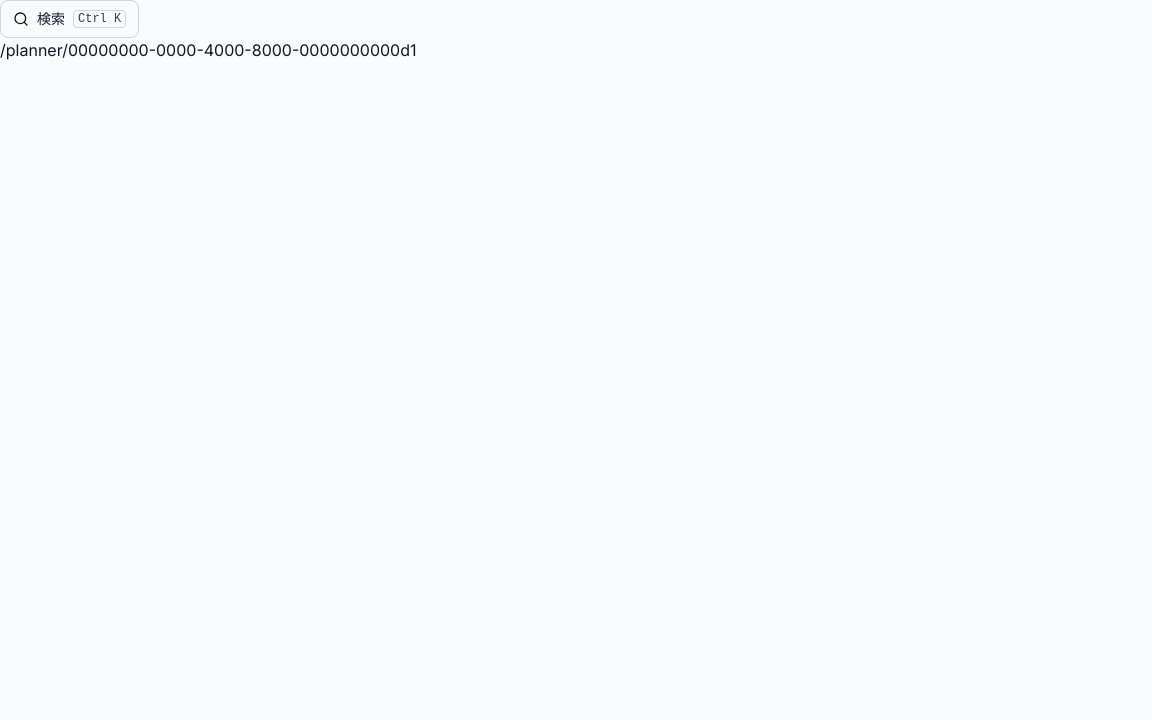
CommandPalette (Gate C3) › Ctrl+K で開き、止まってから1回だけこの旅行を探し、Enter で開く
Press k
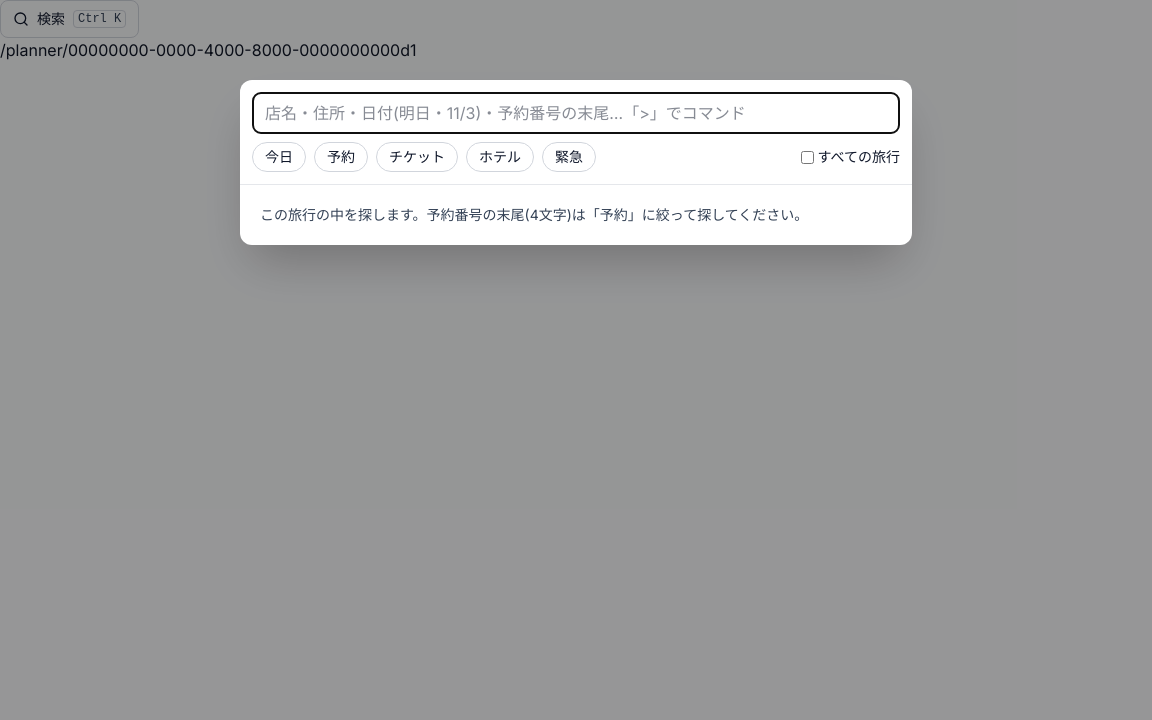
Type "清" into the dropdown named "検索語" at (576, 113), box [252, 92, 900, 134]
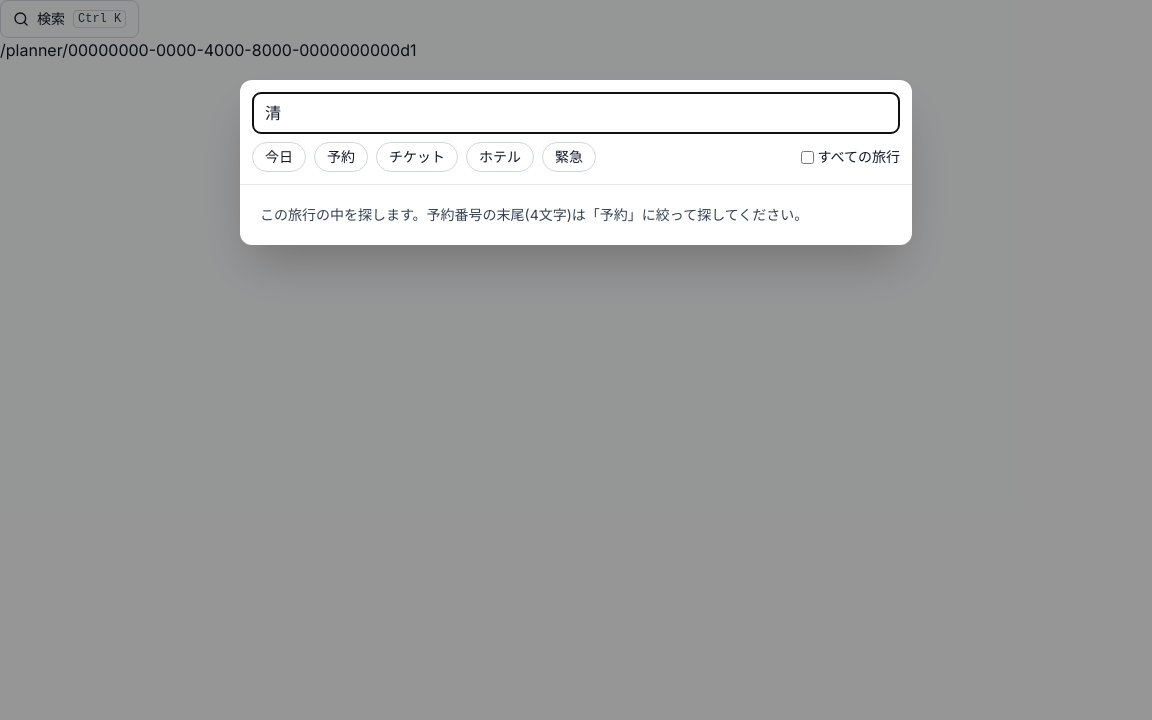
Replace the text in the dropdown named "検索語" with "清水" at (576, 113), box [252, 92, 900, 134]
Wait 300 ms
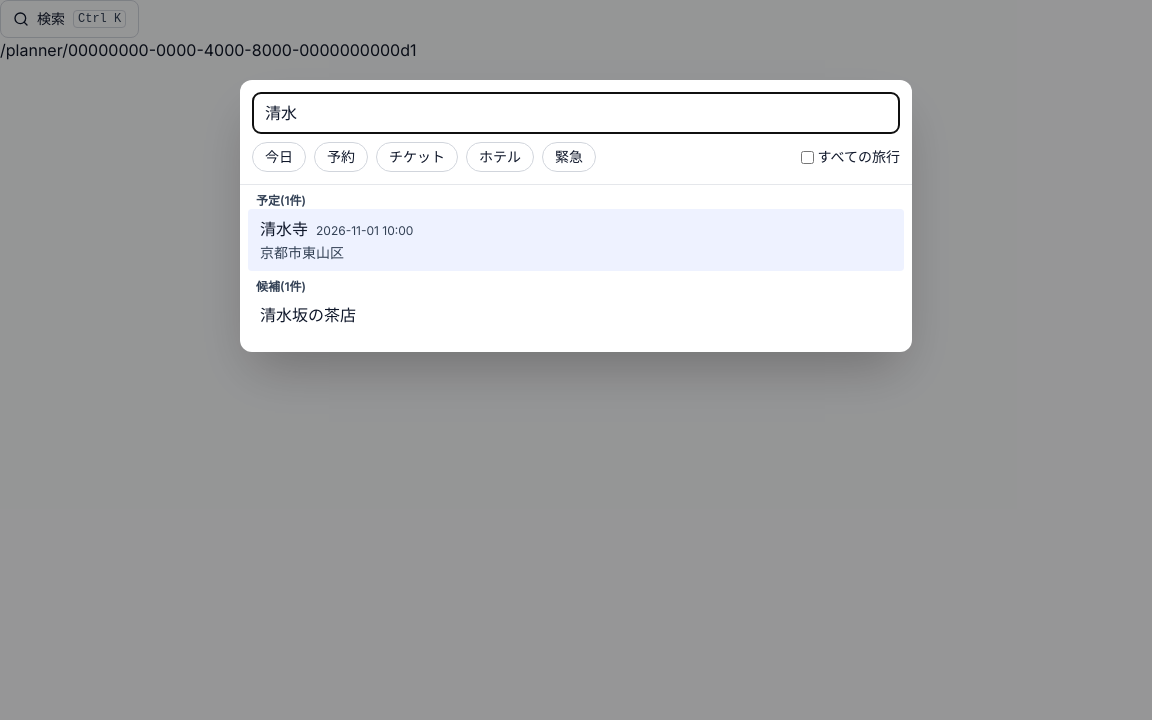
Press ArrowDown in the dropdown named "検索語", box [252, 92, 900, 134]
Press Enter in the dropdown named "検索語", box [252, 92, 900, 134]
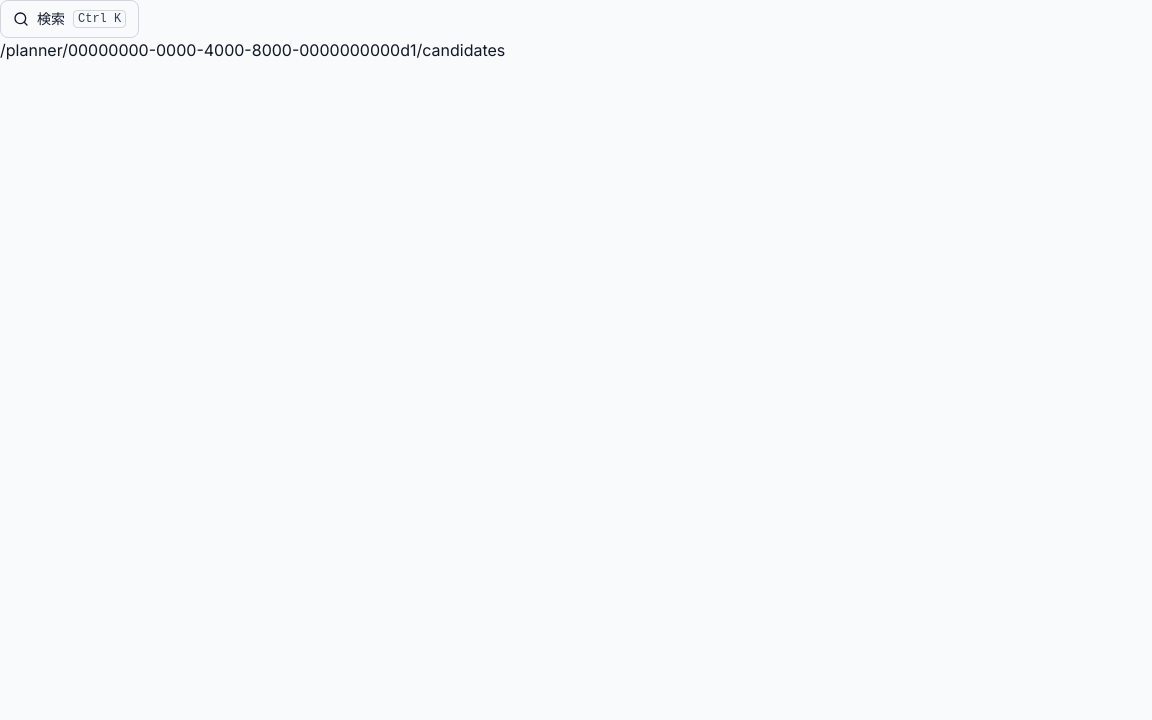
Result: the text with test id "where" reads "/planner/00000000-0000-4000-8000-0000000000d1/candidates" at [0, 40, 505, 60]
Result: the dialog is gone
